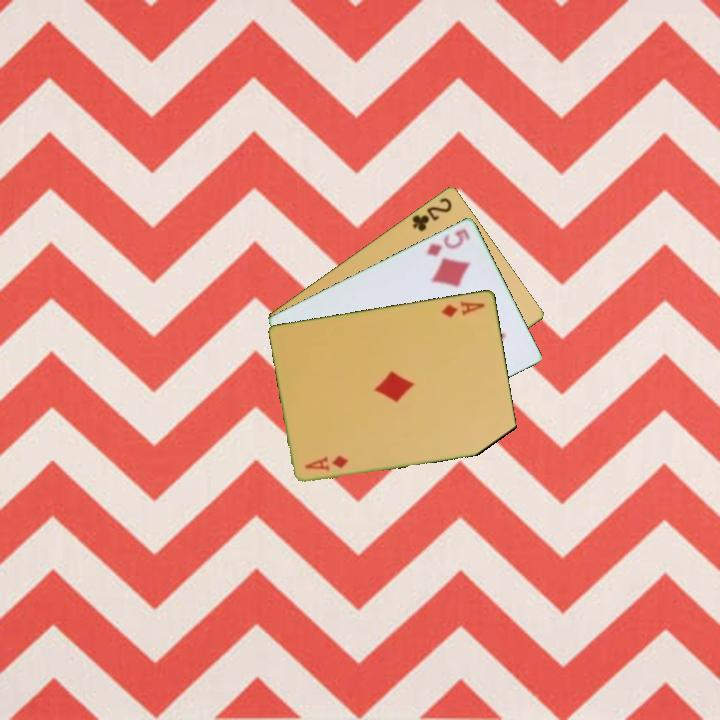2c: (408, 194, 455, 234)
5d: (423, 225, 473, 259)
Ad: (438, 297, 488, 320), (301, 452, 351, 474)
